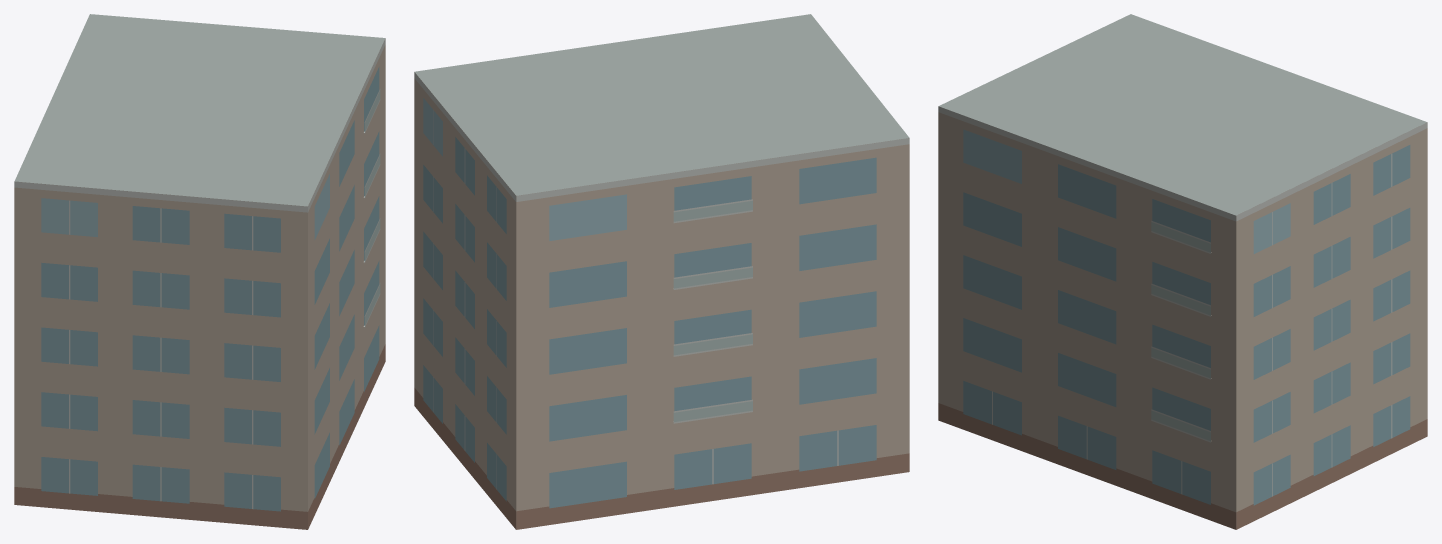
Rendered from survey-upis-32958892.glb.
3 renders of one model, left to right at view 1: azimuth 30°, elevation 25°; view 2: azimuth 150°, elevation 25°; view 3: azimuth 270°, elevation 25°, orthographic. The views are drawn at different scales.
Parts seen in each view (by area): view 1: survey-upis-32958892.tmp; view 2: survey-upis-32958892.tmp; view 3: survey-upis-32958892.tmp.
Part boxes in pixels (<box>): survey-upis-32958892.tmp: <box>14,14,385,529</box>; survey-upis-32958892.tmp: <box>414,14,909,529</box>; survey-upis-32958892.tmp: <box>938,14,1427,529</box>.
Size of the model in its own units: 17.9 by 13 by 18.35.
